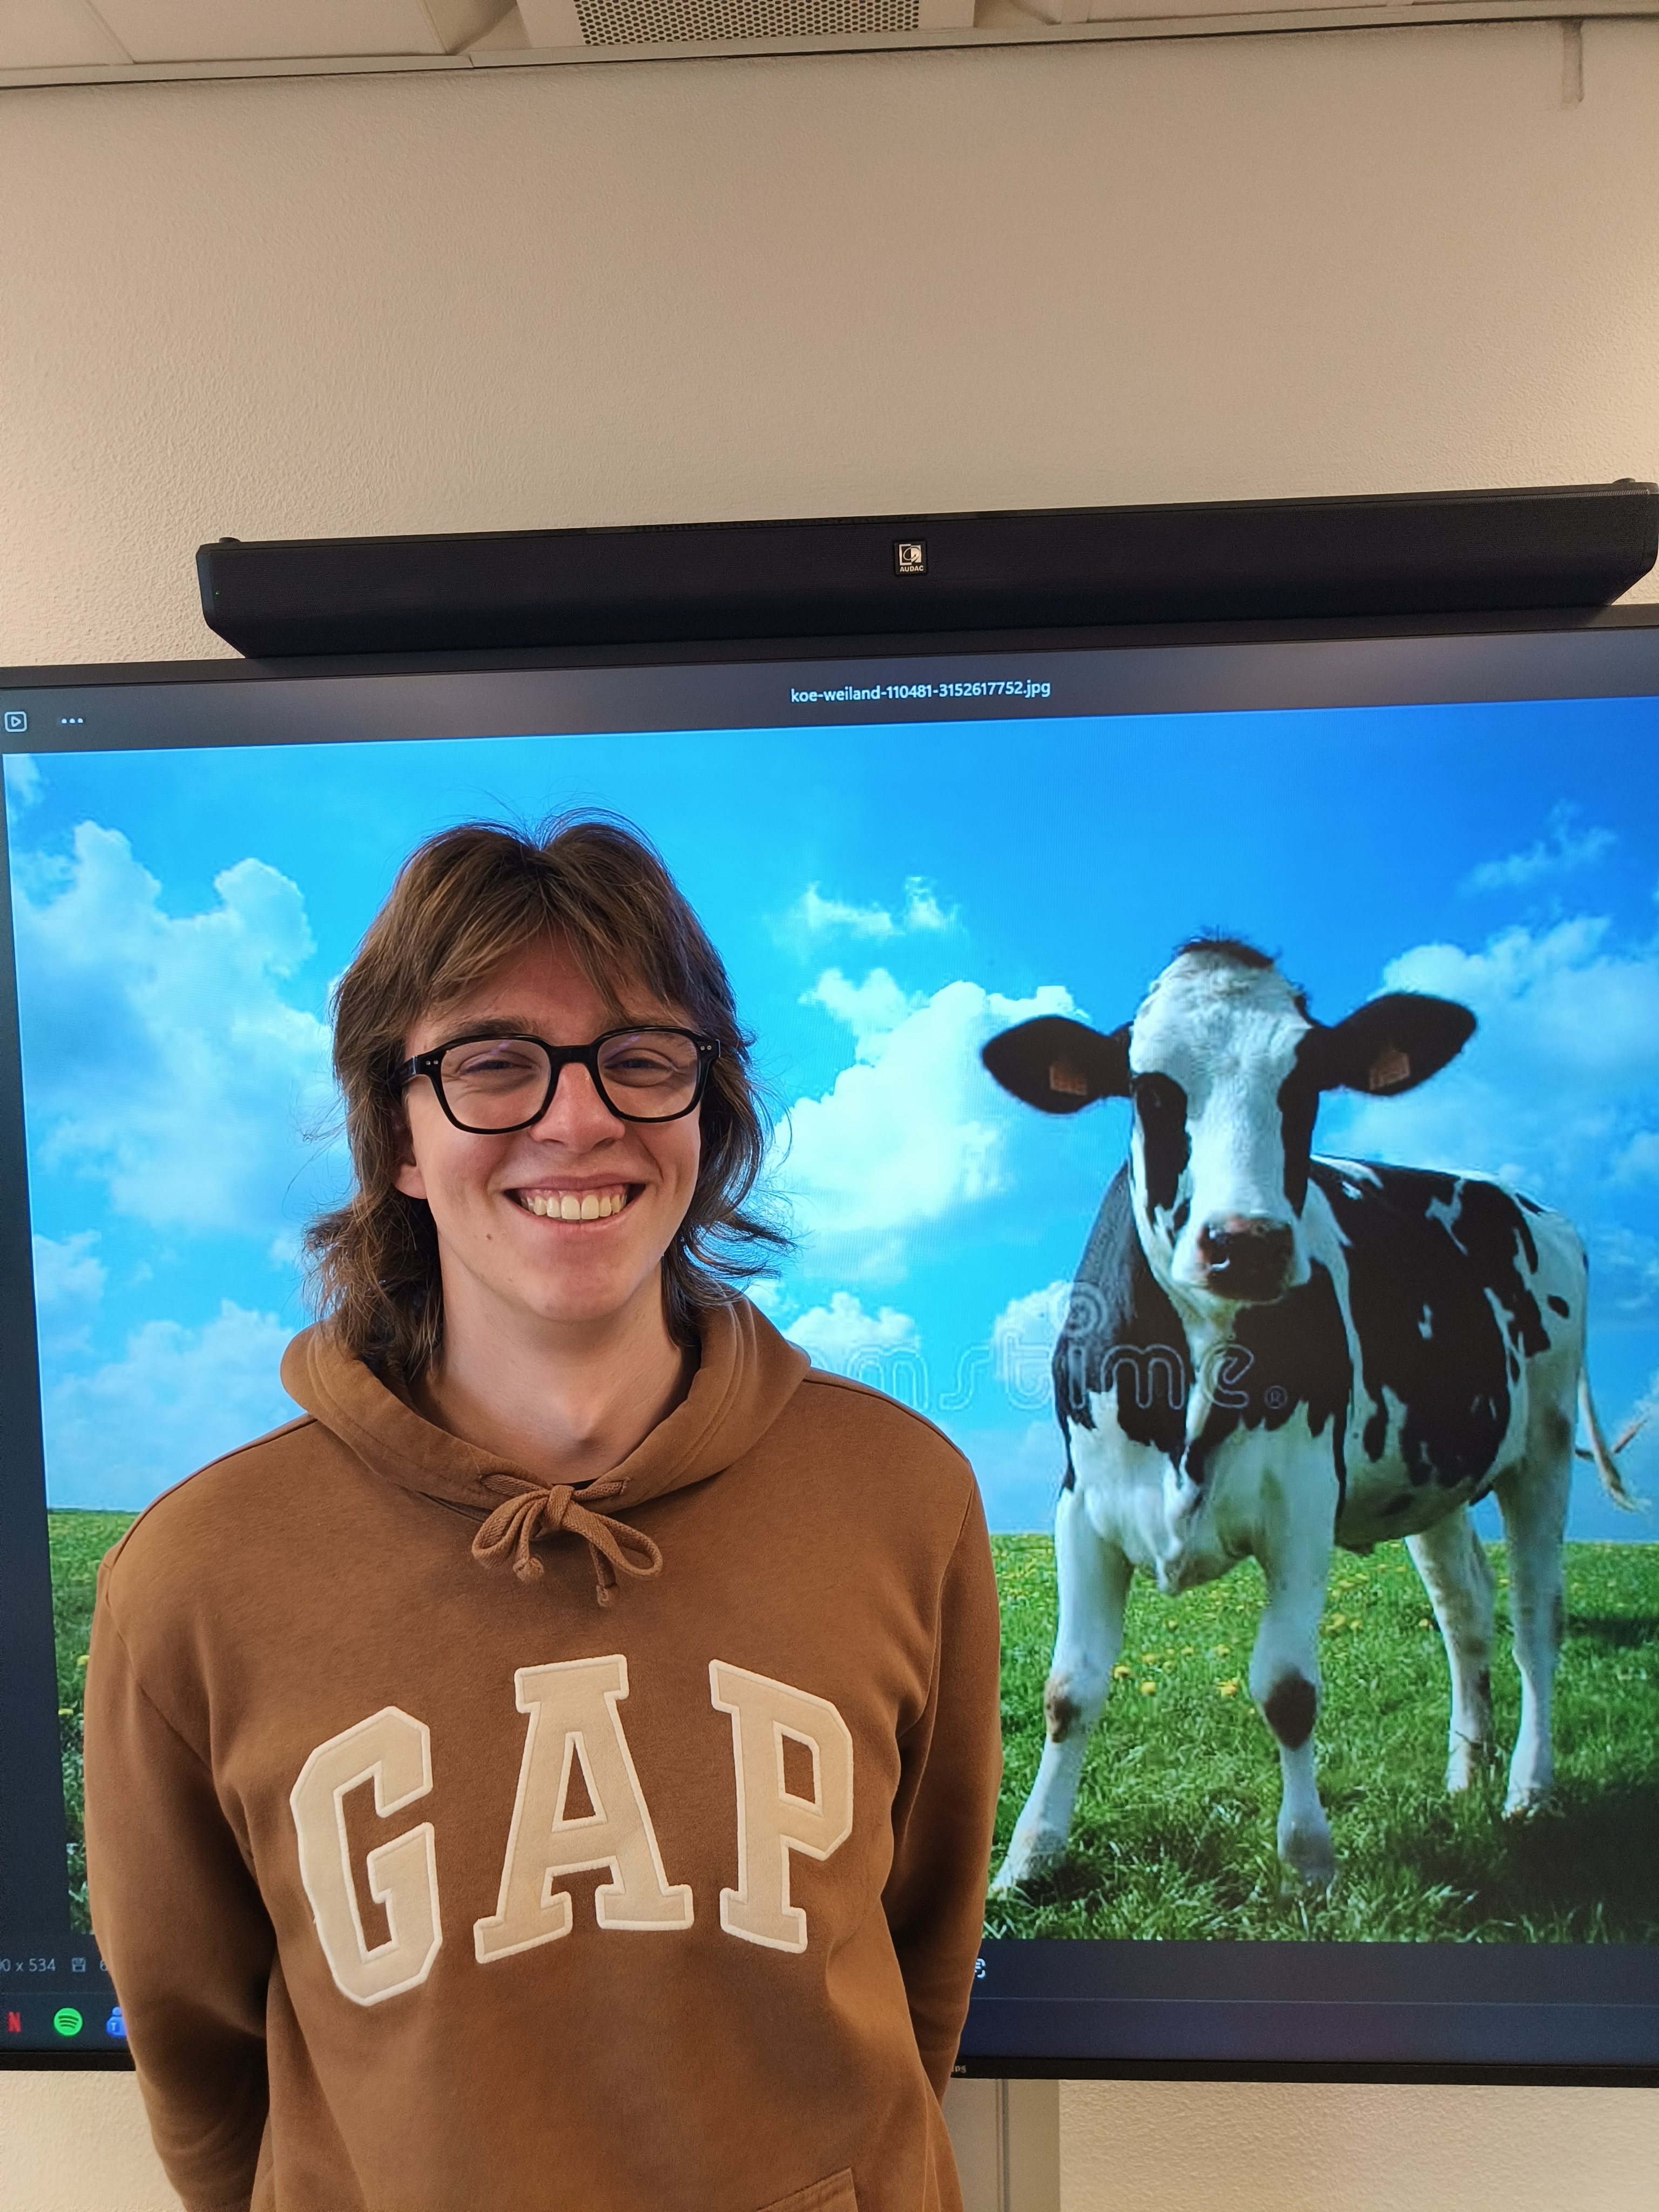face: (369, 819, 742, 1334)
